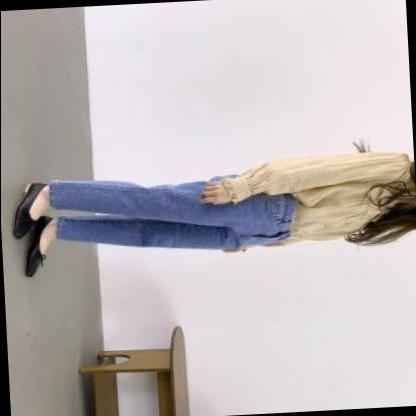no_safety-shoe: (1, 178, 53, 245), (23, 225, 54, 287)
